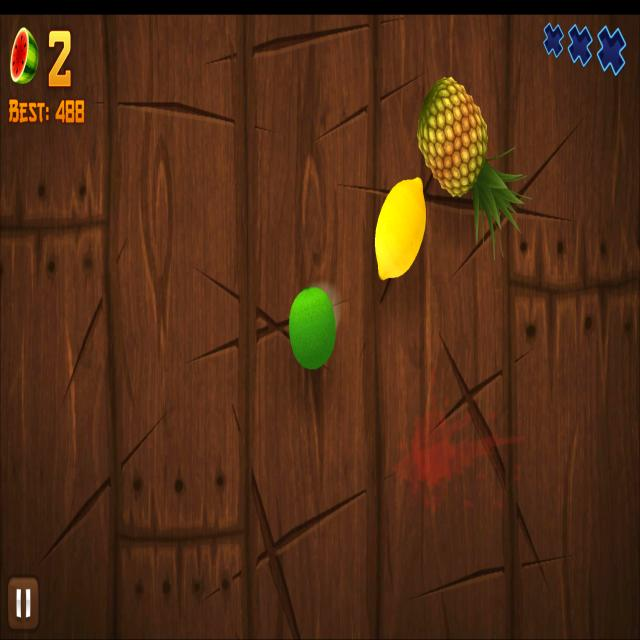fruit: (417, 74, 488, 198), (374, 175, 428, 282), (288, 285, 337, 371)
